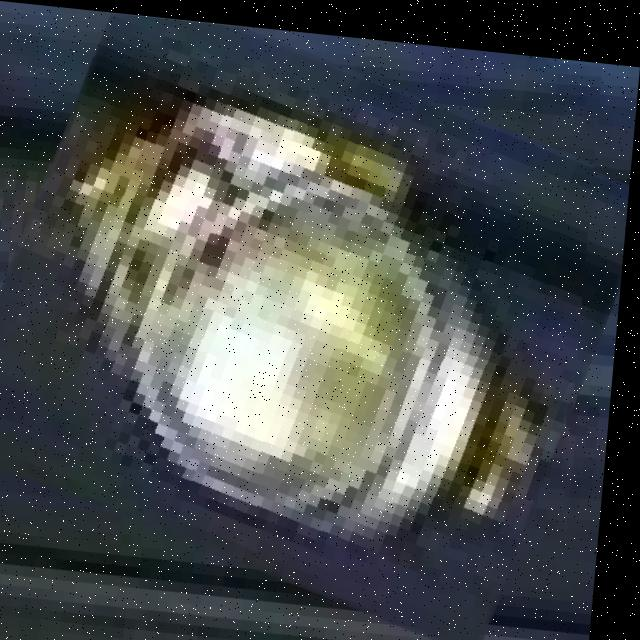can: (55, 16, 579, 558)
